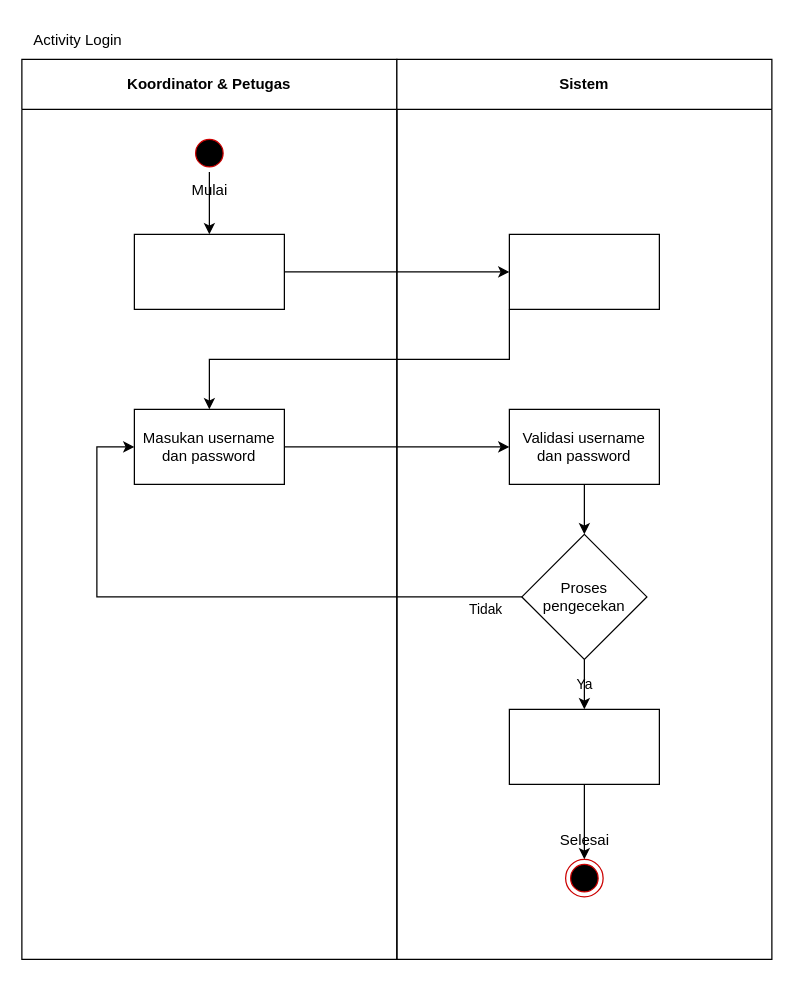
Image size: 794x981. Some labels were removed from this diagram. The shapes that lost their labels are listed below. From the top down, each one's centre as x and y in pixels, then its label:
At (x=208, y=271): "Membuka halaman login".
At (x=583, y=271): "Menampilkan halaman login".
At (x=583, y=746): "Halaman utama".
